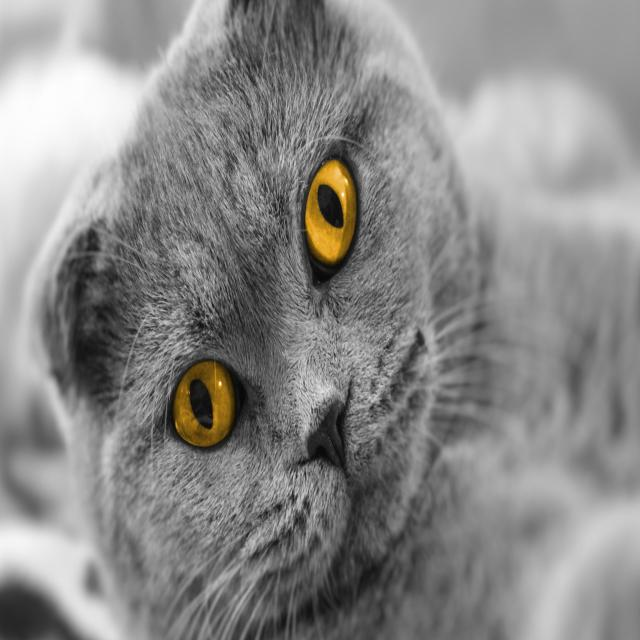Scottish Fold: (16, 0, 640, 640)
